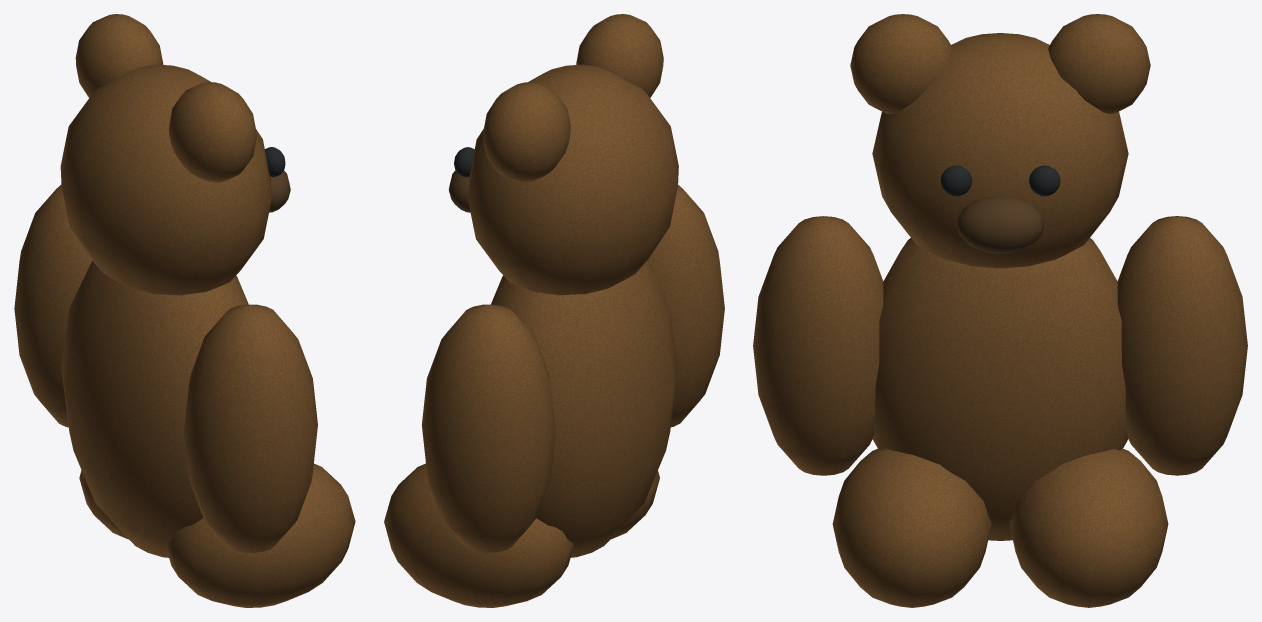
File: SM_TeddyPrize_3d5c67ddf9.fbx
The picture shows the model from 3 angles, left to right: view 1: azimuth 30°, elevation 25°; view 2: azimuth 150°, elevation 25°; view 3: azimuth 270°, elevation 25°; orthographic projection. The views are drawn at different scales.
Visible parts, largest first — view 1: SM_TeddyPrize_3d5c67ddf9; view 2: SM_TeddyPrize_3d5c67ddf9; view 3: SM_TeddyPrize_3d5c67ddf9.
Boxes of the visible parts, x1,y1,x2,y2 form: SM_TeddyPrize_3d5c67ddf9: [14, 14, 355, 607]; SM_TeddyPrize_3d5c67ddf9: [384, 14, 724, 607]; SM_TeddyPrize_3d5c67ddf9: [753, 14, 1247, 607].
Size of what is drawn, in the model's own units: 28.18 by 50.89 by 62.7.
Materials: 3 (1 with a texture image).
